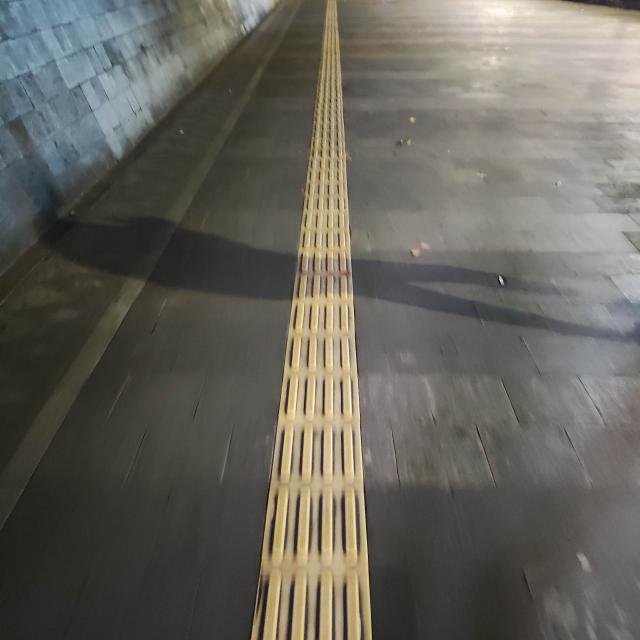lurus: (274, 26, 364, 640)
